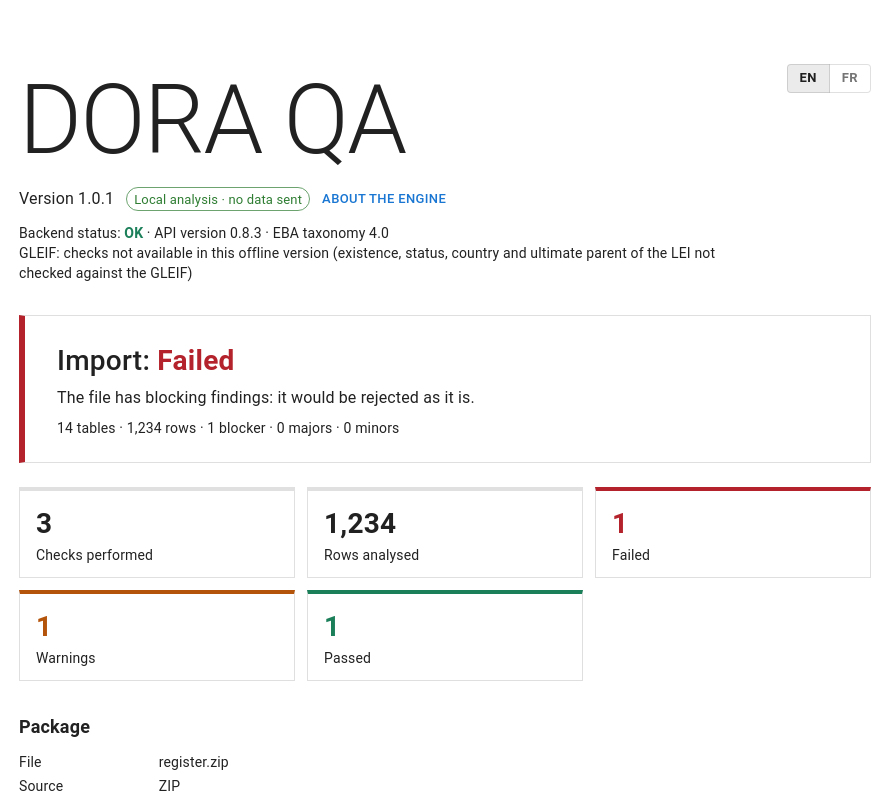
Test: Language › displays the last import in the new language without sending the file again
The width and height of the screenshot is (888, 800).
Earlier steps of the test are not shown.
Click the button with aria-label "Français". click: point(850, 78)
box: 829,64 -> 871,93
(page scrolled)
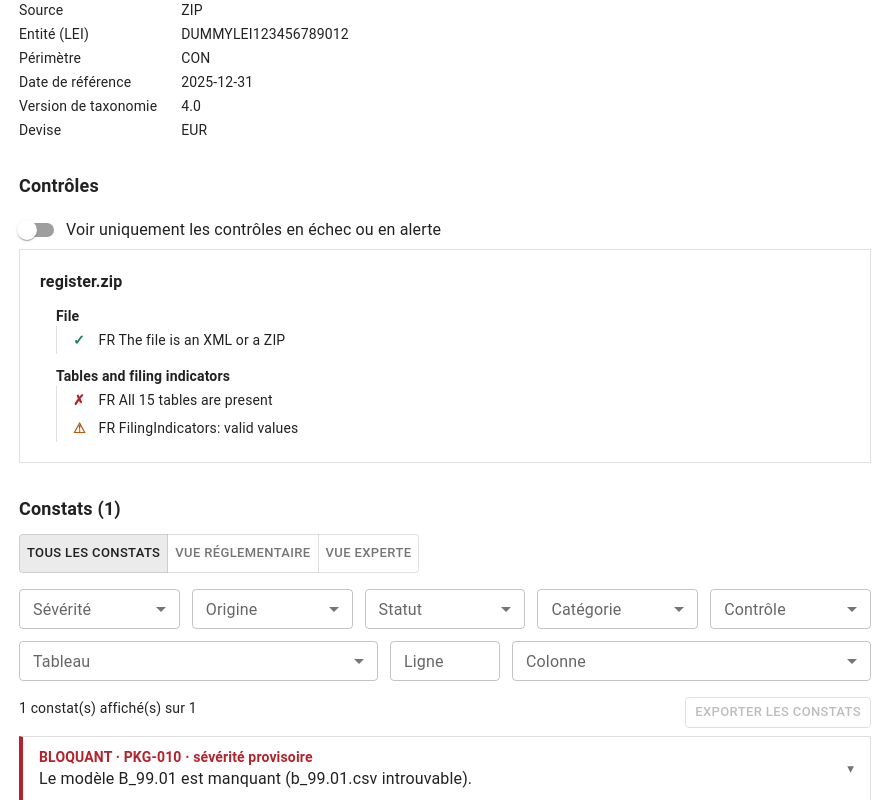
Expected: the text "Le modèle B_99.01 est manquant (b_99.01.csv introuvable)." is shown, 39,769 -> 472,788
Expected: the text "BLOQUANT · PKG-010 · sévérité provisoire" is shown, 39,749 -> 313,765
Expected: the text "FR All 15 tables are present : Échec" is shown, 98,390 -> 273,410
